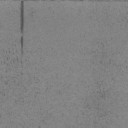surface scratch: (19, 0, 25, 34), (20, 36, 23, 48)
